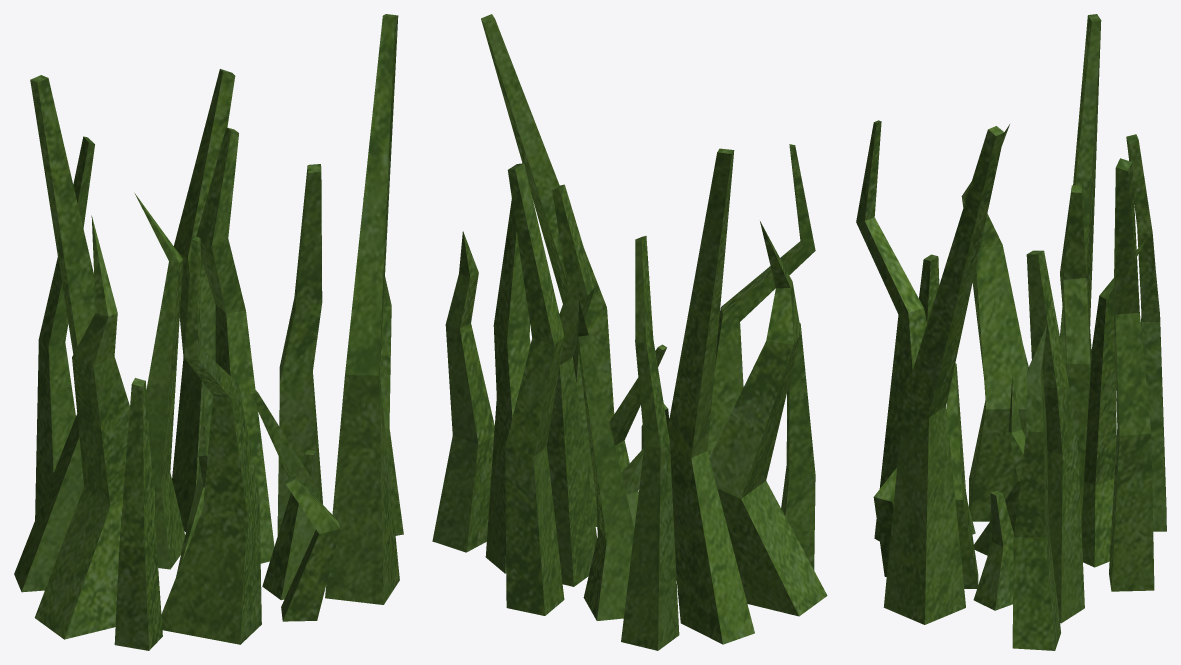
File: erba_2.fbx
3 views of the same model, side by side, from view 1: azimuth 30°, elevation 25°; view 2: azimuth 150°, elevation 25°; view 3: azimuth 270°, elevation 25° (orthographic). The views are drawn at different scales.
Parts seen in each view (by area): view 1: erba_2; view 2: erba_2; view 3: erba_2.
Boxes of the visible parts, x1,y1,x2,y2 form: erba_2: (14, 14, 403, 650); erba_2: (432, 14, 827, 650); erba_2: (856, 14, 1166, 650).
Size of the model in its own units: 15.81 by 21.85 by 12.1.
